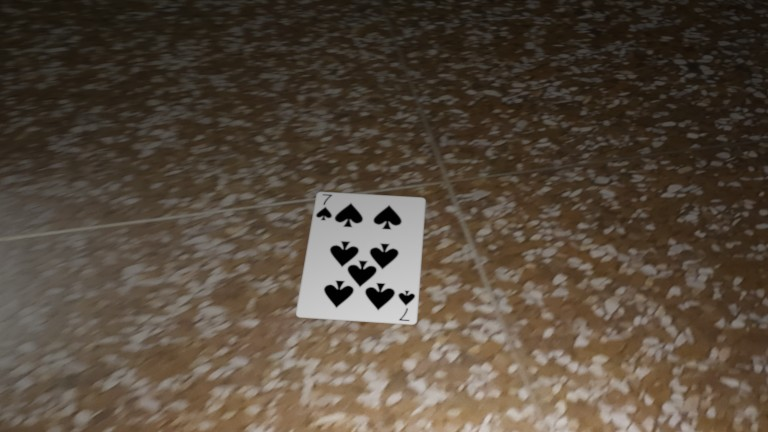7_of_spades: (393, 289, 418, 322), (313, 194, 338, 222)
